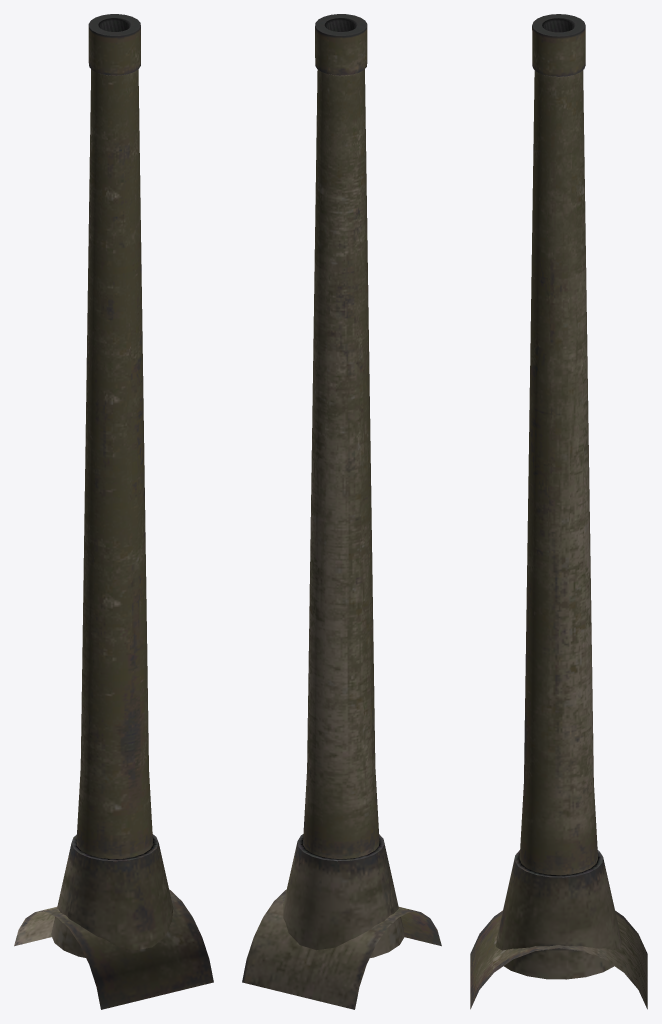
File: Gun_05.glb
3 renders of one model, left to right at view 1: azimuth 30°, elevation 25°; view 2: azimuth 150°, elevation 25°; view 3: azimuth 270°, elevation 25°, orthographic.
Visible parts, largest first — view 1: set_0_group_0; view 2: set_0_group_0; view 3: set_0_group_0.
Boxes of the visible parts, x1,y1,x2,y2 form: set_0_group_0: (14, 14, 213, 1009); set_0_group_0: (242, 14, 441, 1009); set_0_group_0: (470, 14, 647, 1009).
Size of the model in its own units: 0.3998 by 3.18 by 0.5331.
1 material, 1 textured.
